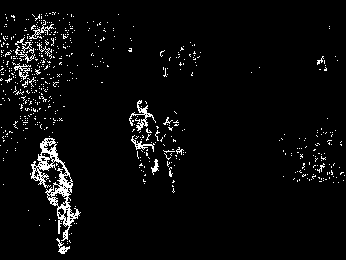person: (33, 131, 84, 253), (128, 97, 161, 183), (165, 104, 195, 194)
